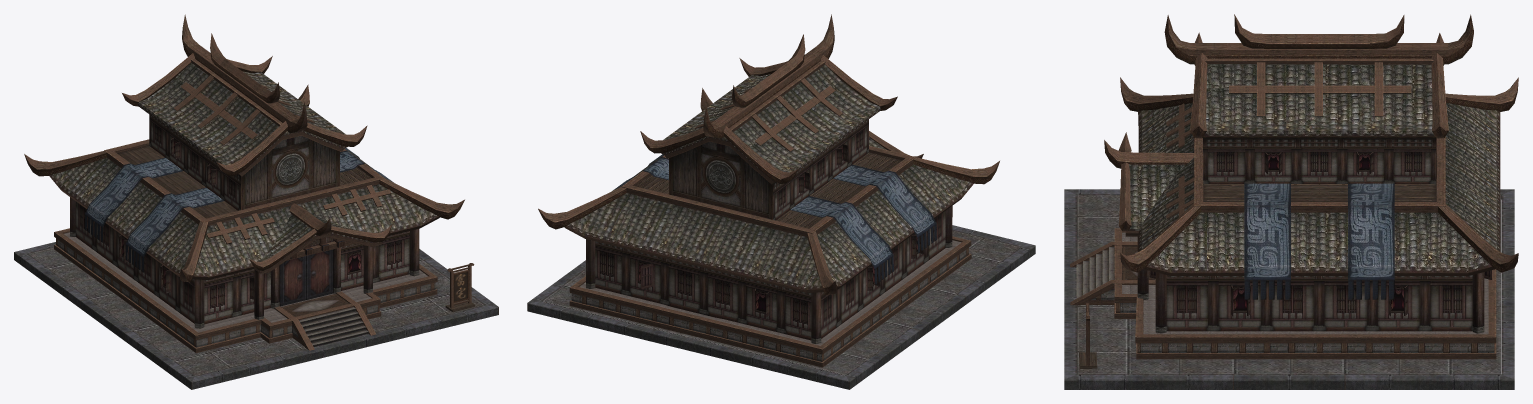
3 views of the same model, side by side, from view 1: azimuth 30°, elevation 25°; view 2: azimuth 150°, elevation 25°; view 3: azimuth 270°, elevation 25° (orthographic). The views are drawn at different scales.
Visible parts, largest first — view 1: g_9; view 2: g_9; view 3: g_9.
Boxes of the visible parts, <box> form: g_9: <box>14,14,498,389</box>; g_9: <box>527,14,1035,389</box>; g_9: <box>1064,14,1518,389</box>.
Bounding box in the file's own units: 20 × 13.77 × 20.19.
2 materials, 2 textured.
